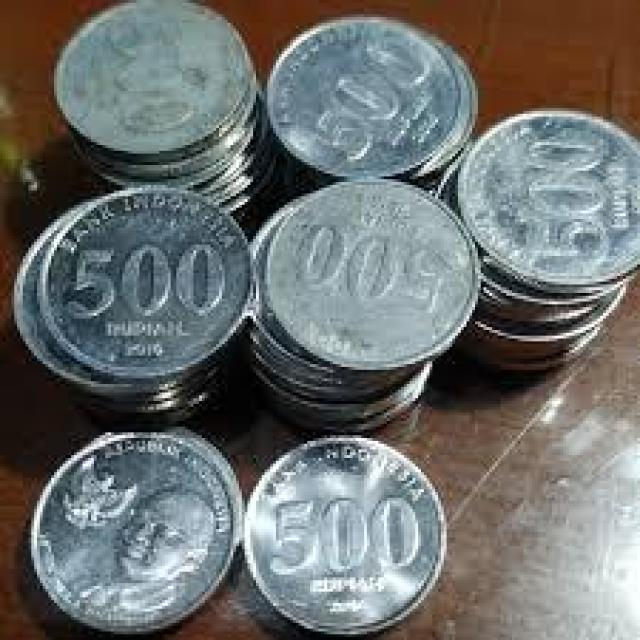500-kuning: (245, 436, 446, 634)
